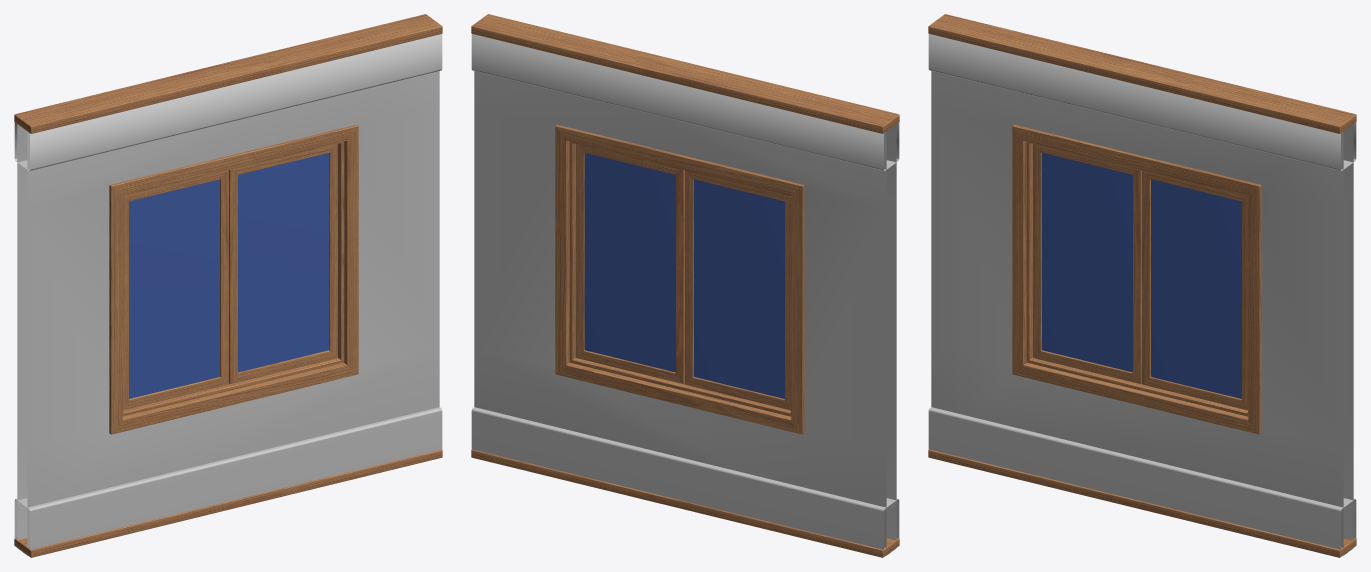
File: SM_wall_windows_01.fbx
3 views of the same model, side by side, from view 1: azimuth 30°, elevation 25°; view 2: azimuth 150°, elevation 25°; view 3: azimuth 330°, elevation 25° (orthographic).
Visible parts, largest first — view 1: Wall_window_01; view 2: Wall_window_01; view 3: Wall_window_01.
Part boxes in pixels (x1,y1,x2,y2): Wall_window_01: (14, 14, 442, 557); Wall_window_01: (471, 14, 899, 557); Wall_window_01: (928, 14, 1356, 557).
Bounding box in the file's own units: 157 × 158 × 11.32.
